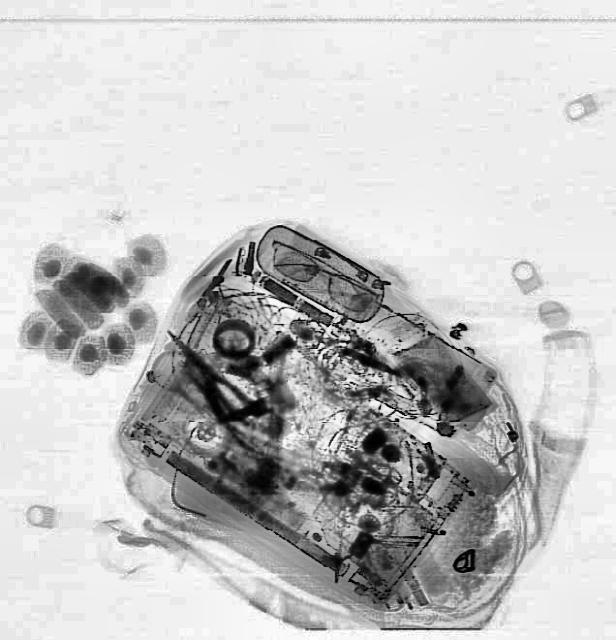Pliers: (156, 320, 260, 428)
